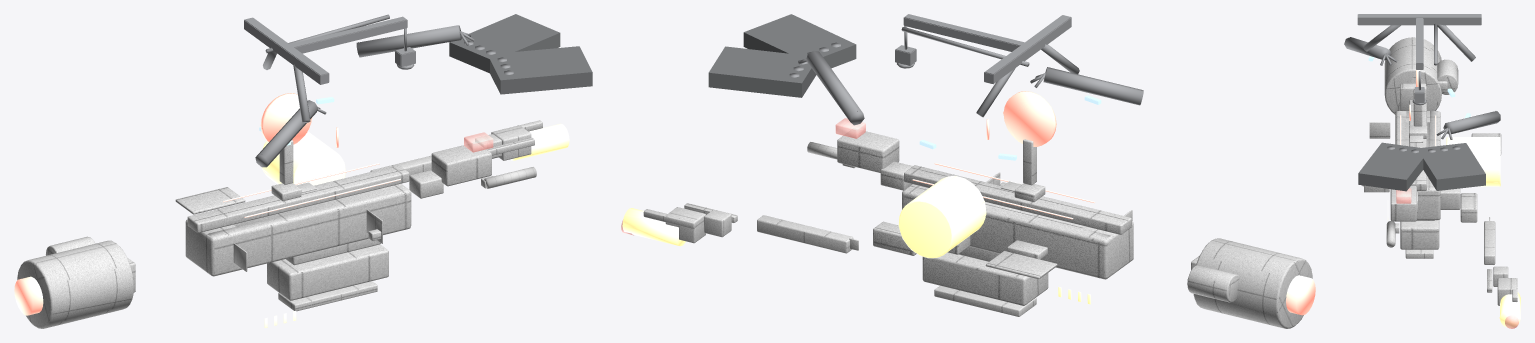
The model's file is var_ashline_rig_reaver_hook_v01.glb.
3 renders of one model, left to right at view 1: azimuth 30°, elevation 25°; view 2: azimuth 150°, elevation 25°; view 3: azimuth 270°, elevation 25°, orthographic. The views are drawn at different scales.
Parts seen in each view (by area): view 1: LOD0_Merged_Material_Hull, LOD0_Merged_Material_Mechanical, VAR_REAVOR_prowplate_1, VAR_REAVOR_prowplate_0, LOD0_HOOK_TETHER_SPOOL, LOD0_Merged_Material_Cyan, VAR_REAVOR_grapple_arm_port, VAR_REAVOR_gantry_header, VAR_REAVOR_crane_jib, VAR_REAVOR_grapple_arm_stbd, LOD0_HOOK_DRIVE_CORE, LOD1_Merged_Material_Hull (+9 smaller); view 2: LOD0_Merged_Material_Hull, LOD0_Merged_Material_Mechanical, LOD0_HOOK_TETHER_SPOOL, VAR_REAVOR_prowplate_0, VAR_REAVOR_prowplate_1, LOD0_Merged_Material_Cyan, VAR_REAVOR_grapple_arm_stbd, VAR_REAVOR_gantry_header, VAR_REAVOR_crane_jib, VAR_REAVOR_grapple_arm_port, LOD0_HOOK_DRIVE_CORE, LOD1_Merged_Material_Hull (+5 smaller); view 3: LOD0_Merged_Material_Hull, LOD0_Merged_Material_Mechanical, VAR_REAVOR_prowplate_1, VAR_REAVOR_prowplate_0, LOD0_HOOK_TETHER_SPOOL, VAR_REAVOR_gantry_header, VAR_REAVOR_grapple_arm_port, LOD1_Merged_Material_Mechanical, VAR_REAVOR_grapple_arm_stbd, LOD2_HOOK_TETHER_SPOOL, VAR_REAVOR_crane_jib, LOD0_Merged_Material_Glass (+11 smaller).
Part boxes in pixels (x1=…): LOD0_Merged_Material_Hull: x1=128, y1=143, x2=491, y2=300; LOD0_Merged_Material_Mechanical: x1=17, y1=120, x2=542, y2=328; VAR_REAVOR_prowplate_1: x1=487, y1=46, x2=592, y2=94; VAR_REAVOR_prowplate_0: x1=449, y1=14, x2=560, y2=73; LOD0_HOOK_TETHER_SPOOL: x1=262, y1=123, x2=569, y2=185; LOD0_Merged_Material_Cyan: x1=223, y1=93, x2=400, y2=217; VAR_REAVOR_grapple_arm_port: x1=356, y1=25, x2=461, y2=57; VAR_REAVOR_gantry_header: x1=244, y1=17, x2=329, y2=84; VAR_REAVOR_crane_jib: x1=290, y1=16, x2=407, y2=53; VAR_REAVOR_grapple_arm_stbd: x1=255, y1=100, x2=318, y2=167; LOD0_HOOK_DRIVE_CORE: x1=14, y1=276, x2=43, y2=315; LOD1_Merged_Material_Hull: x1=130, y1=145, x2=491, y2=300; LOD0_Merged_Material_Hull: x1=837, y1=129, x2=1198, y2=305; LOD0_Merged_Material_Mechanical: x1=643, y1=139, x2=1312, y2=328; LOD0_HOOK_TETHER_SPOOL: x1=622, y1=176, x2=985, y2=257; VAR_REAVOR_prowplate_0: x1=708, y1=46, x2=816, y2=97; VAR_REAVOR_prowplate_1: x1=743, y1=14, x2=856, y2=68; LOD0_Merged_Material_Cyan: x1=912, y1=91, x2=1095, y2=219; VAR_REAVOR_grapple_arm_stbd: x1=1043, y1=67, x2=1143, y2=105; VAR_REAVOR_gantry_header: x1=984, y1=15, x2=1071, y2=84; VAR_REAVOR_crane_jib: x1=903, y1=14, x2=1024, y2=51; VAR_REAVOR_grapple_arm_port: x1=806, y1=50, x2=864, y2=125; LOD0_HOOK_DRIVE_CORE: x1=1286, y1=275, x2=1315, y2=315; LOD1_Merged_Material_Hull: x1=837, y1=131, x2=1196, y2=304; LOD0_Merged_Material_Hull: x1=1390, y1=81, x2=1501, y2=249; LOD0_Merged_Material_Mechanical: x1=1362, y1=37, x2=1517, y2=305; VAR_REAVOR_prowplate_1: x1=1358, y1=142, x2=1429, y2=191; VAR_REAVOR_prowplate_0: x1=1417, y1=143, x2=1485, y2=190; LOD0_HOOK_TETHER_SPOOL: x1=1446, y1=137, x2=1520, y2=324; VAR_REAVOR_gantry_header: x1=1357, y1=14, x2=1481, y2=25; VAR_REAVOR_grapple_arm_port: x1=1443, y1=111, x2=1500, y2=134; LOD1_Merged_Material_Mechanical: x1=1362, y1=37, x2=1517, y2=305; VAR_REAVOR_grapple_arm_stbd: x1=1344, y1=37, x2=1390, y2=59; LOD2_HOOK_TETHER_SPOOL: x1=1447, y1=137, x2=1520, y2=326; VAR_REAVOR_crane_jib: x1=1416, y1=18, x2=1423, y2=69; LOD0_Merged_Material_Glass: x1=1396, y1=188, x2=1518, y2=328.
Size of what is drawn, in the model's own units: 17.72 by 7.31 by 5.56.
Materials: 8 (5 with a texture image).
